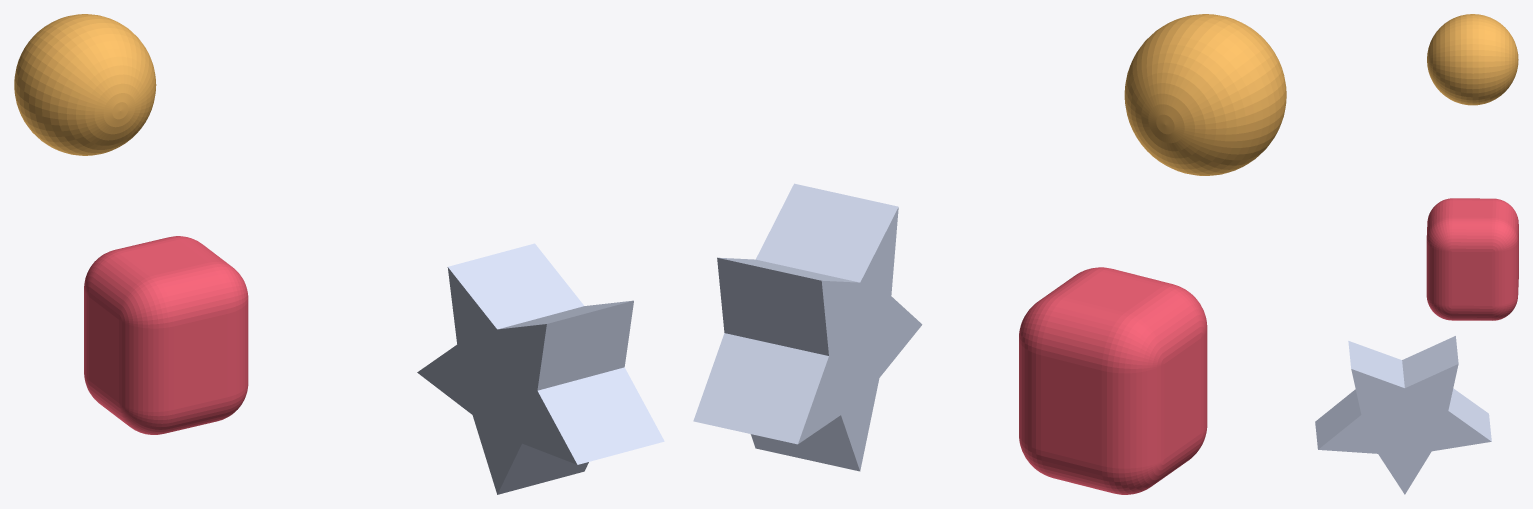
Rendered from tinker.glb.
3 renders of one model, left to right at view 1: azimuth 30°, elevation 25°; view 2: azimuth 150°, elevation 25°; view 3: azimuth 270°, elevation 25°, orthographic. The views are drawn at different scales.
Parts seen in each view (by area): view 1: g group_1_11452141, g group_0_15277357, g group_2_16089887; view 2: g group_1_11452141, g group_0_15277357, g group_2_16089887; view 3: g group_1_11452141, g group_0_15277357, g group_2_16089887.
Boxes of the visible parts, x1,y1,x2,y2 form: g group_1_11452141: (417,243,664,494); g group_0_15277357: (84,236,248,434); g group_2_16089887: (14,14,156,155); g group_1_11452141: (693,183,922,471); g group_0_15277357: (1019,267,1207,494); g group_2_16089887: (1124,14,1286,175); g group_1_11452141: (1315,336,1491,494); g group_0_15277357: (1426,198,1518,320); g group_2_16089887: (1427,14,1518,105).
Bounding box in the file's own units: 84.71 × 81 × 44.49.
